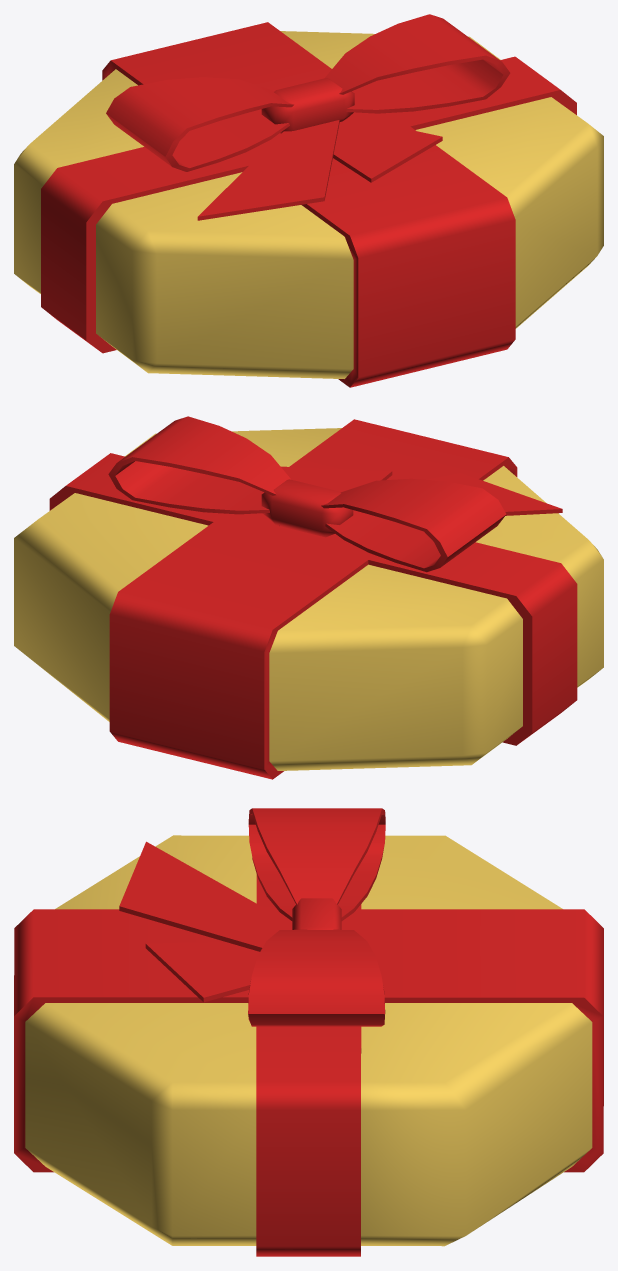
Rendered from Gift_32_231109.glb.
3 renders of one model, top to bottom at view 1: azimuth 30°, elevation 25°; view 2: azimuth 150°, elevation 25°; view 3: azimuth 270°, elevation 25°, orthographic. The views are drawn at different scales.
Visible parts, largest first — view 1: Gift_32; view 2: Gift_32; view 3: Gift_32.
Boxes of the visible parts, x1,y1,x2,y2 form: Gift_32: [14, 14, 603, 387]; Gift_32: [14, 416, 603, 779]; Gift_32: [14, 808, 603, 1256].
Bounding box in the file's own units: 0.9042 × 0.3652 × 0.8196.
Materials: 1 (1 with a texture image).
